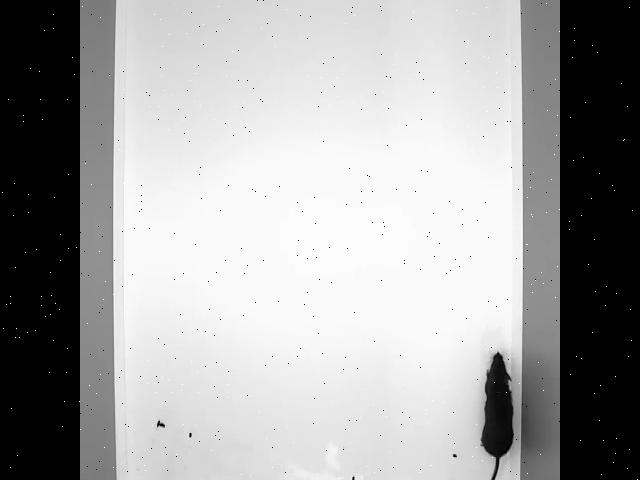Tikus: (446, 350, 514, 480)
